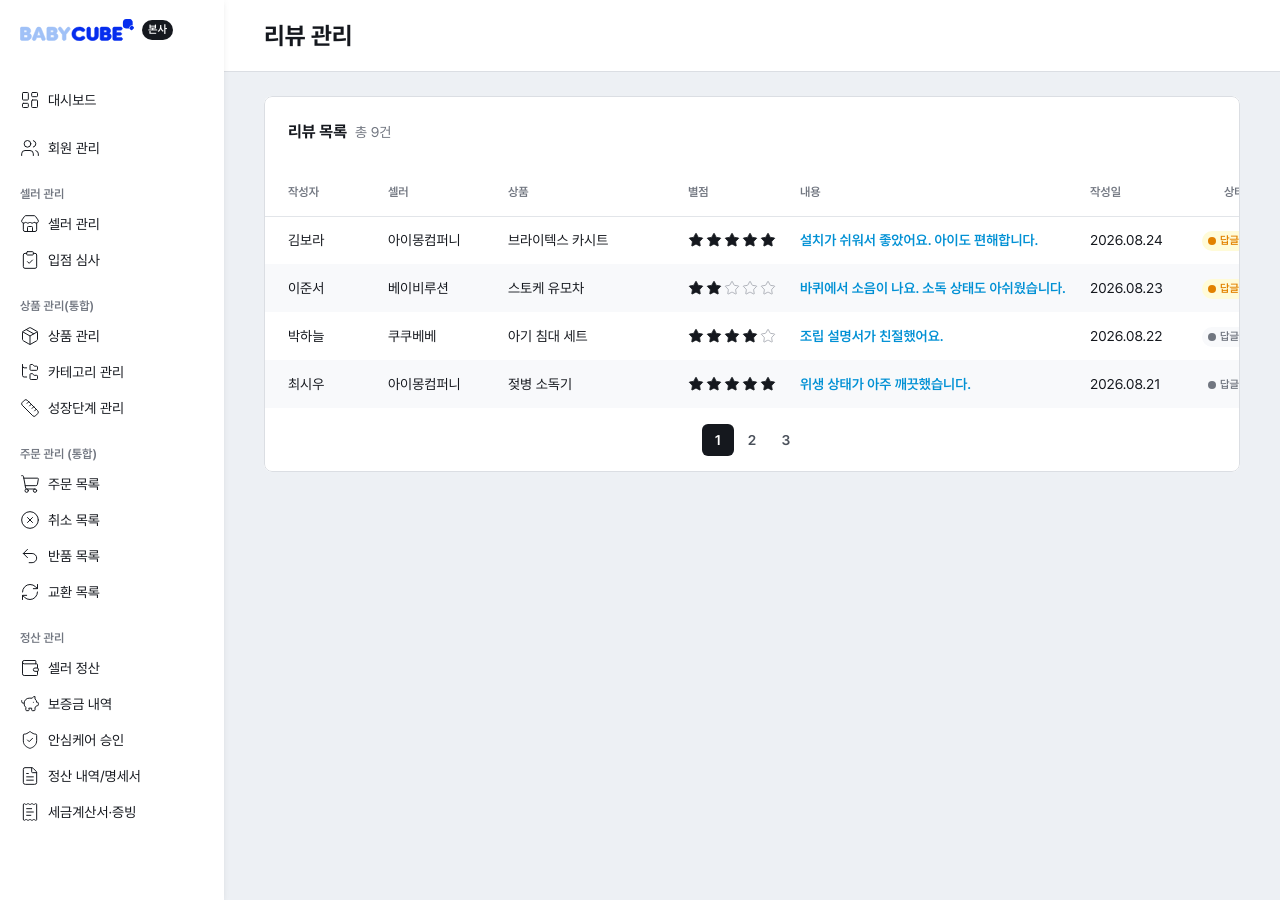
Test: ReviewListPage › 숨김 리뷰 — 목록에서 사라지지 않고 표시가 달라진다 (원본 규칙) › 내용 앞에 '(숨김)' 이 붙는다
Note: 08-17 21:14 → 최신순 8번째라 2페이지 마지막 행
Click the button "2" at x=752, y=440, box [736,424,768,456]
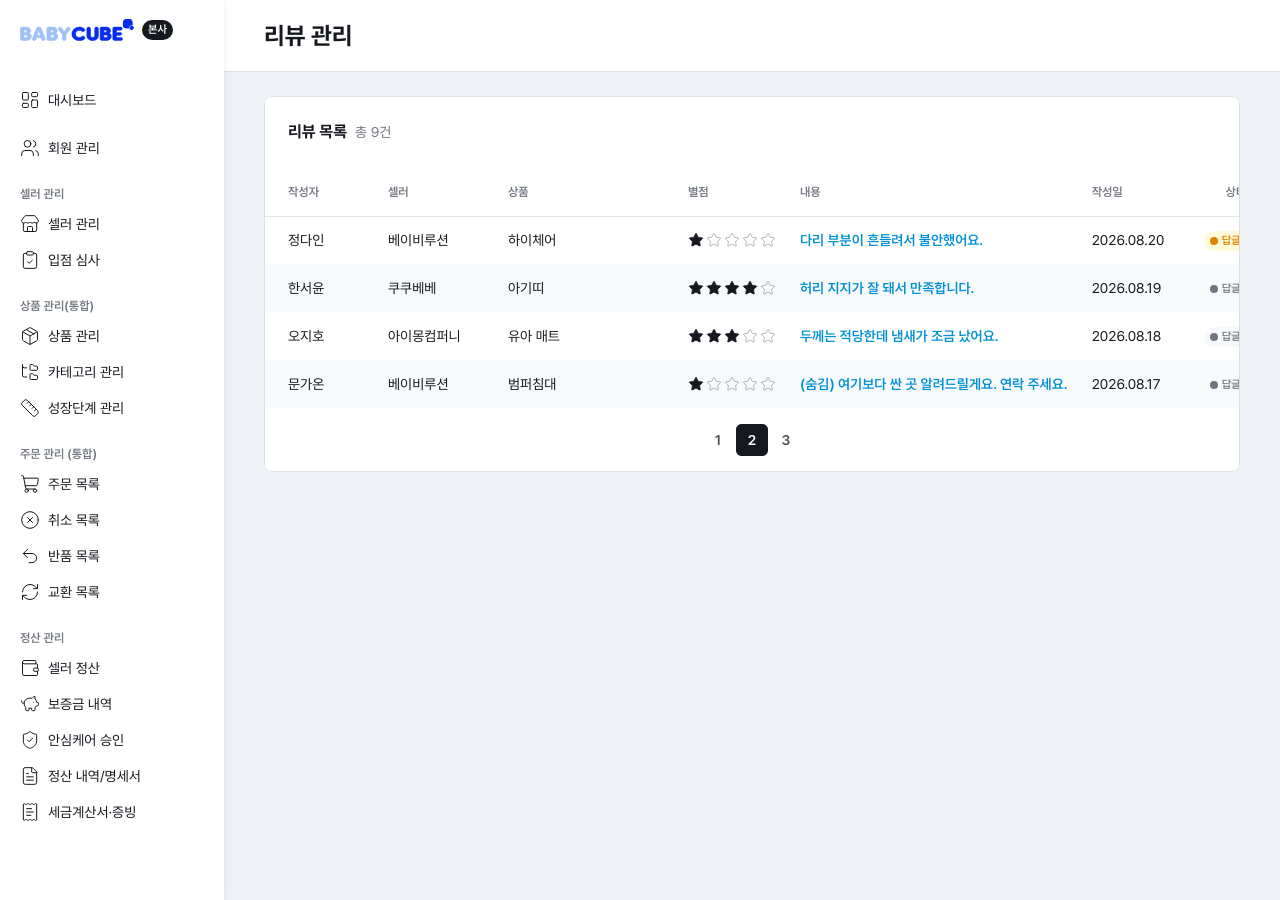
Check: the cell "문가온" is shown, box [264,360,376,408]
